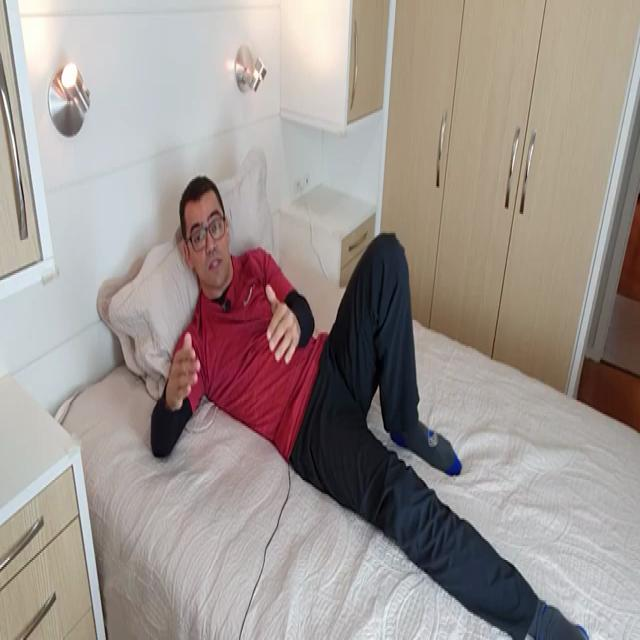deitado: (96, 176, 591, 638)
